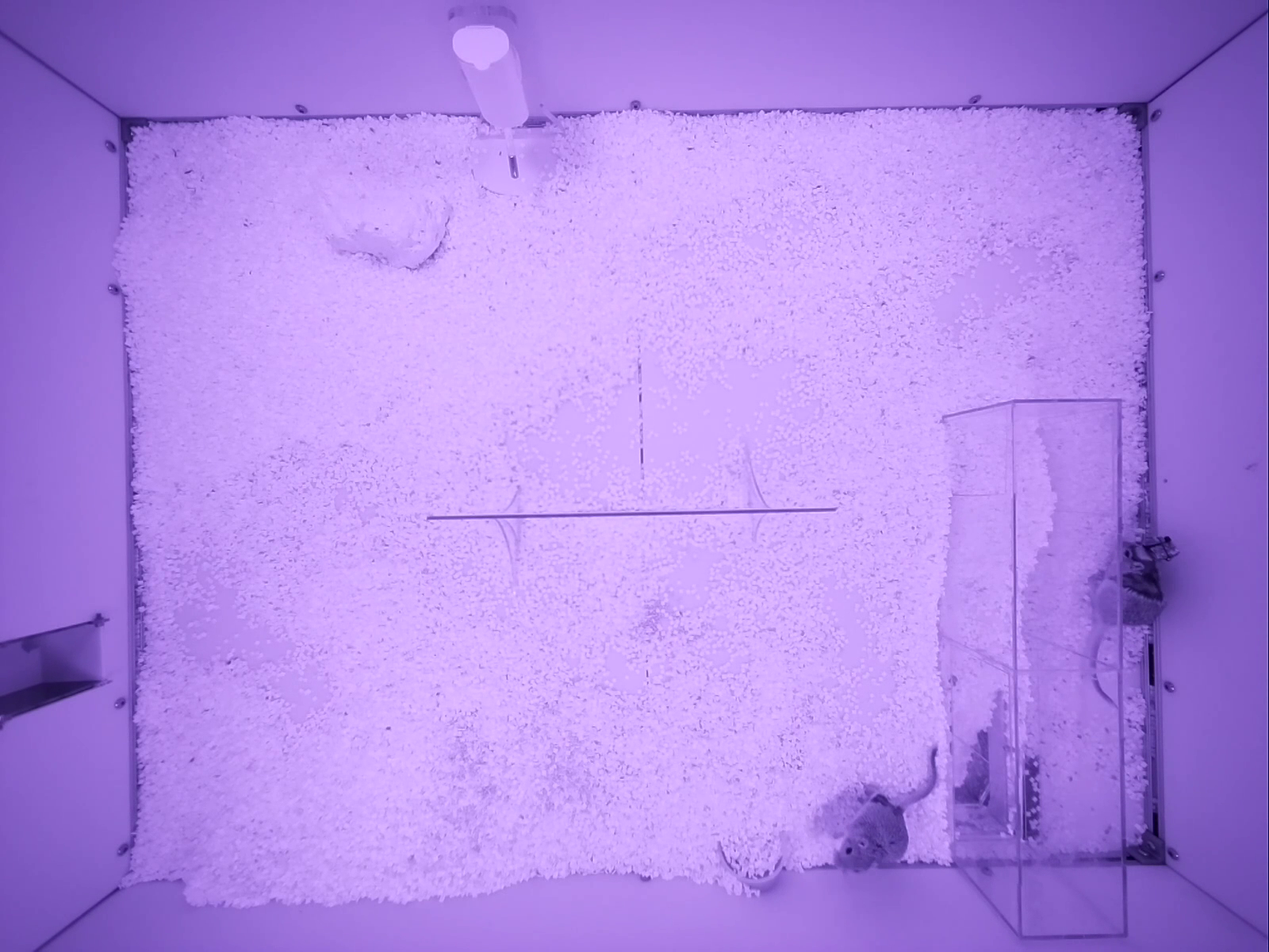adult_back: (834, 746, 936, 869), (1091, 536, 1176, 655)
